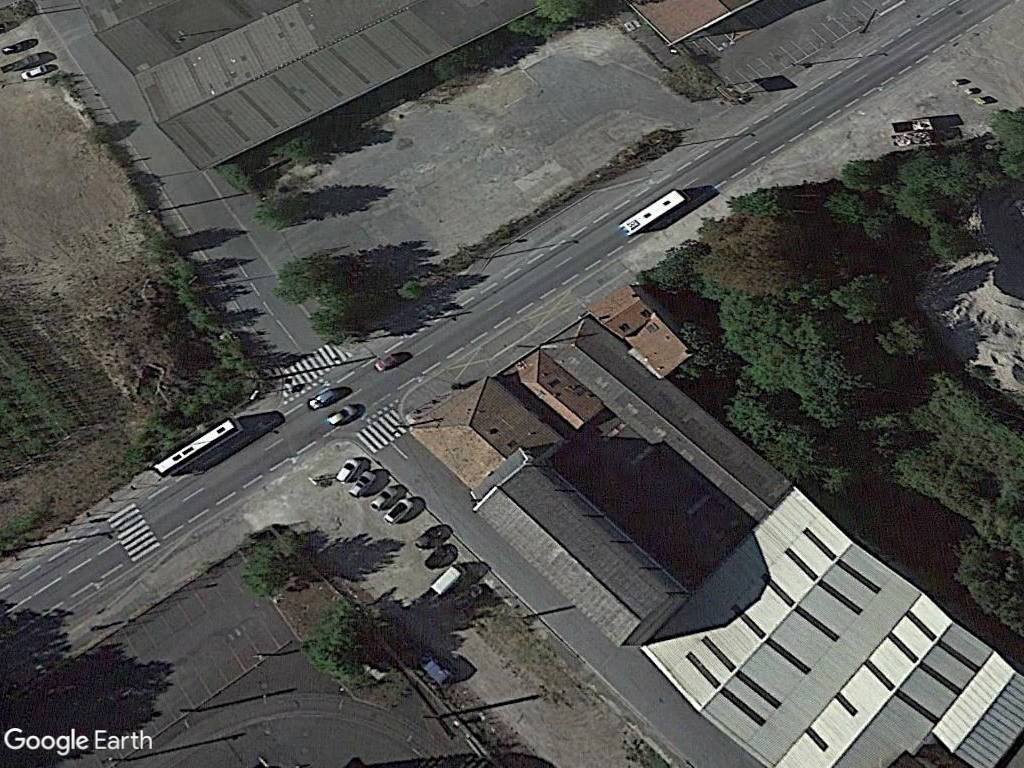bus: (149, 408, 239, 481), (612, 181, 695, 242)
car: (306, 385, 345, 412), (370, 348, 405, 375), (330, 457, 361, 485)
